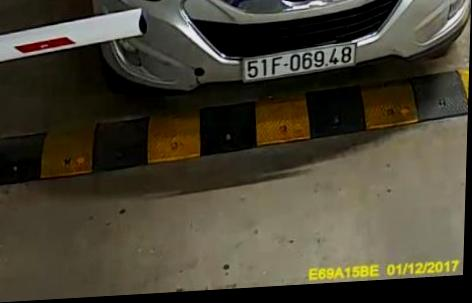License_Plate: (239, 41, 355, 79)
